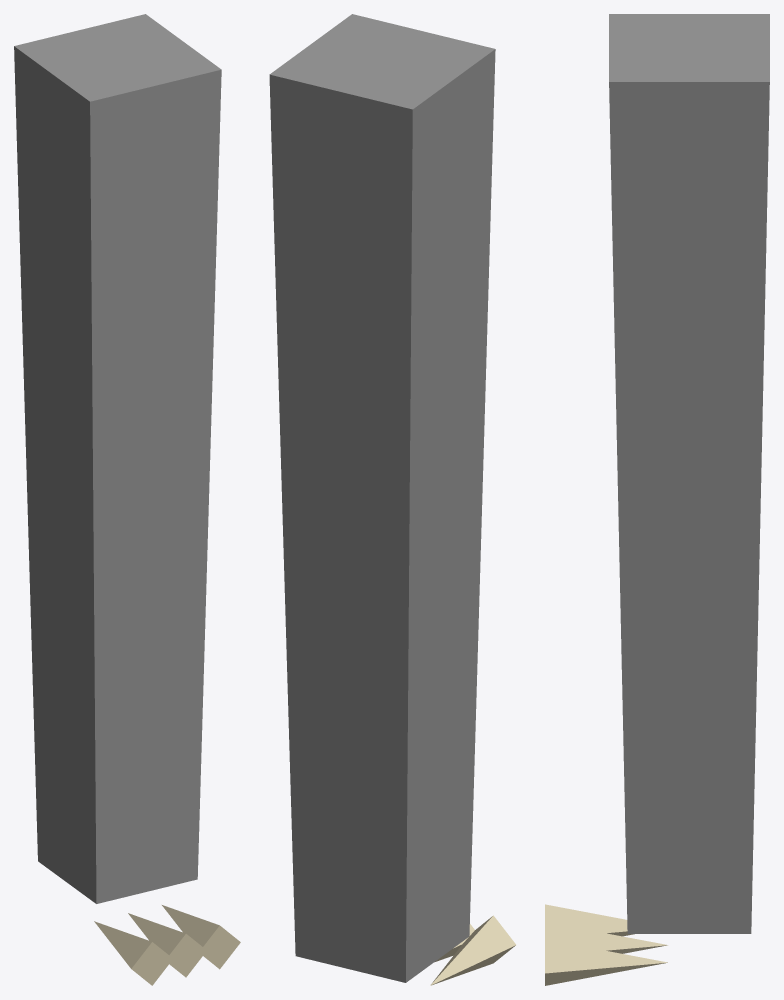
The model's file is leg_clawed.glb.
3 views of the same model, side by side, from view 1: azimuth 30°, elevation 25°; view 2: azimuth 150°, elevation 25°; view 3: azimuth 270°, elevation 25° (orthographic). The views are drawn at different scales.
Parts seen in each view (by area): view 1: leg_clawed; view 2: leg_clawed; view 3: leg_clawed.
Part boxes in pixels (x1=…): leg_clawed: x1=14, y1=14, x2=240, y2=985; leg_clawed: x1=269, y1=14, x2=515, y2=985; leg_clawed: x1=545, y1=14, x2=769, y2=985.
Size of the model in its own units: 0.156 by 0.985 by 0.218.
